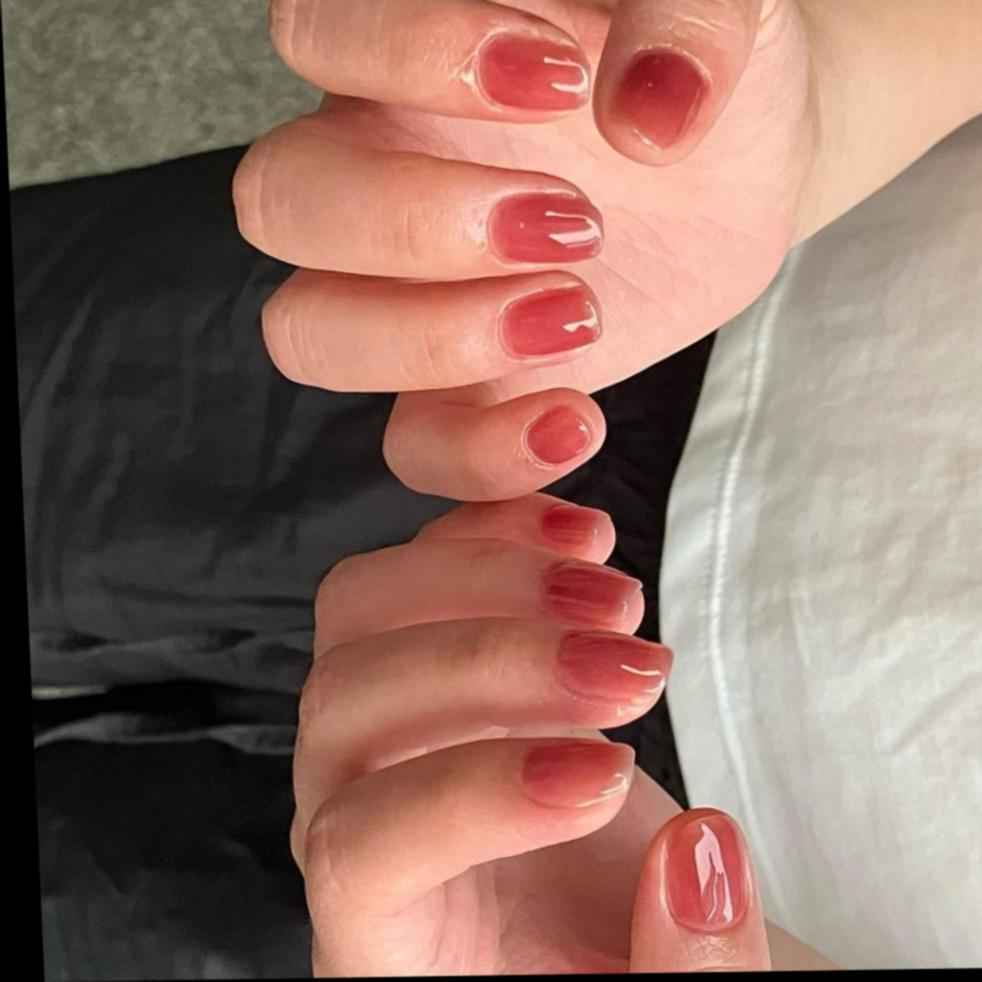nail: (657, 807, 755, 933), (609, 44, 716, 152), (473, 29, 592, 113), (487, 189, 606, 265), (556, 631, 671, 706), (519, 737, 637, 810), (495, 282, 604, 360), (541, 561, 648, 635), (519, 403, 598, 469), (541, 503, 617, 564)
